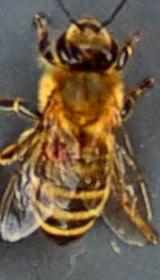varroa_mite: (32, 134, 72, 164)
